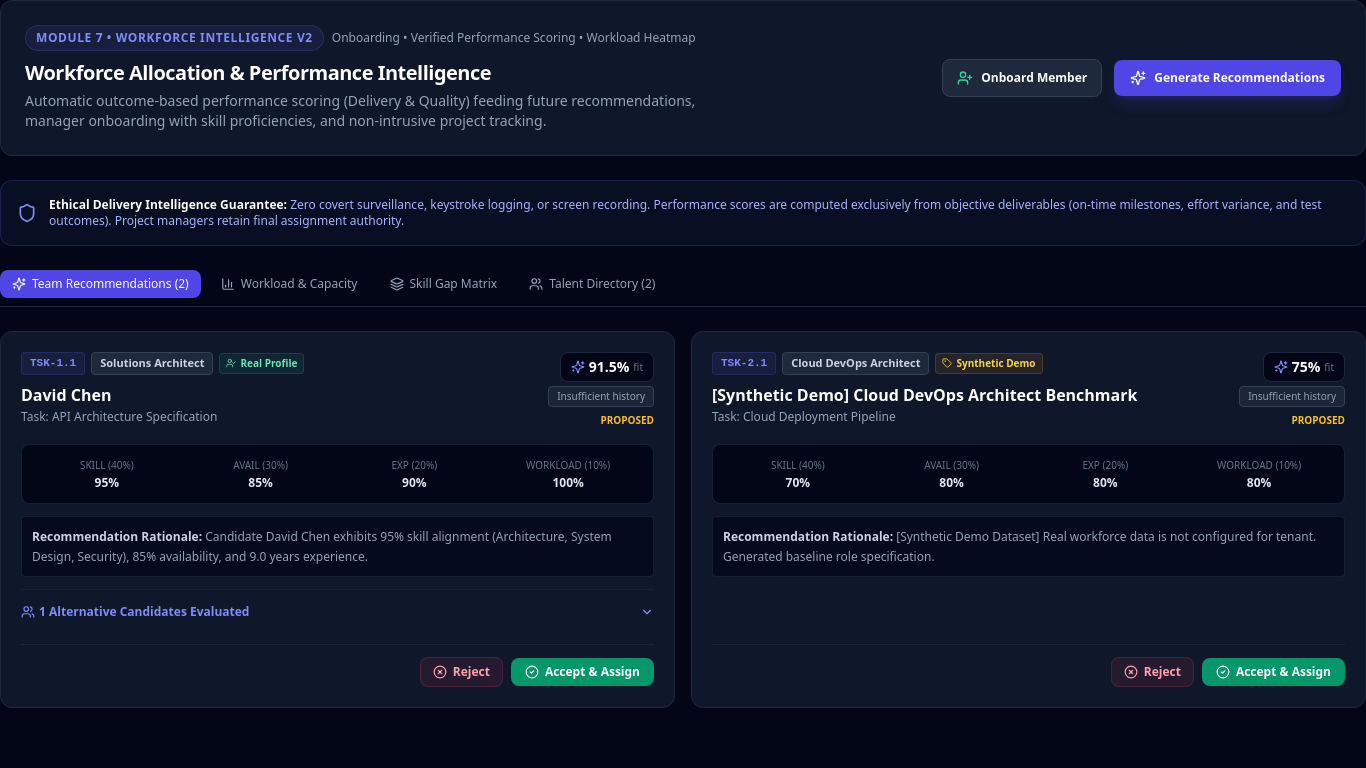
WorkforceView Component › switches to Skill Gap Matrix subtab and displays coverage score and upskilling signals
This screenshot has width=1366, height=768.
Click the button "Skill Gap Matrix".
click(443, 284)  # box x1=378 y1=270 x2=509 y2=298
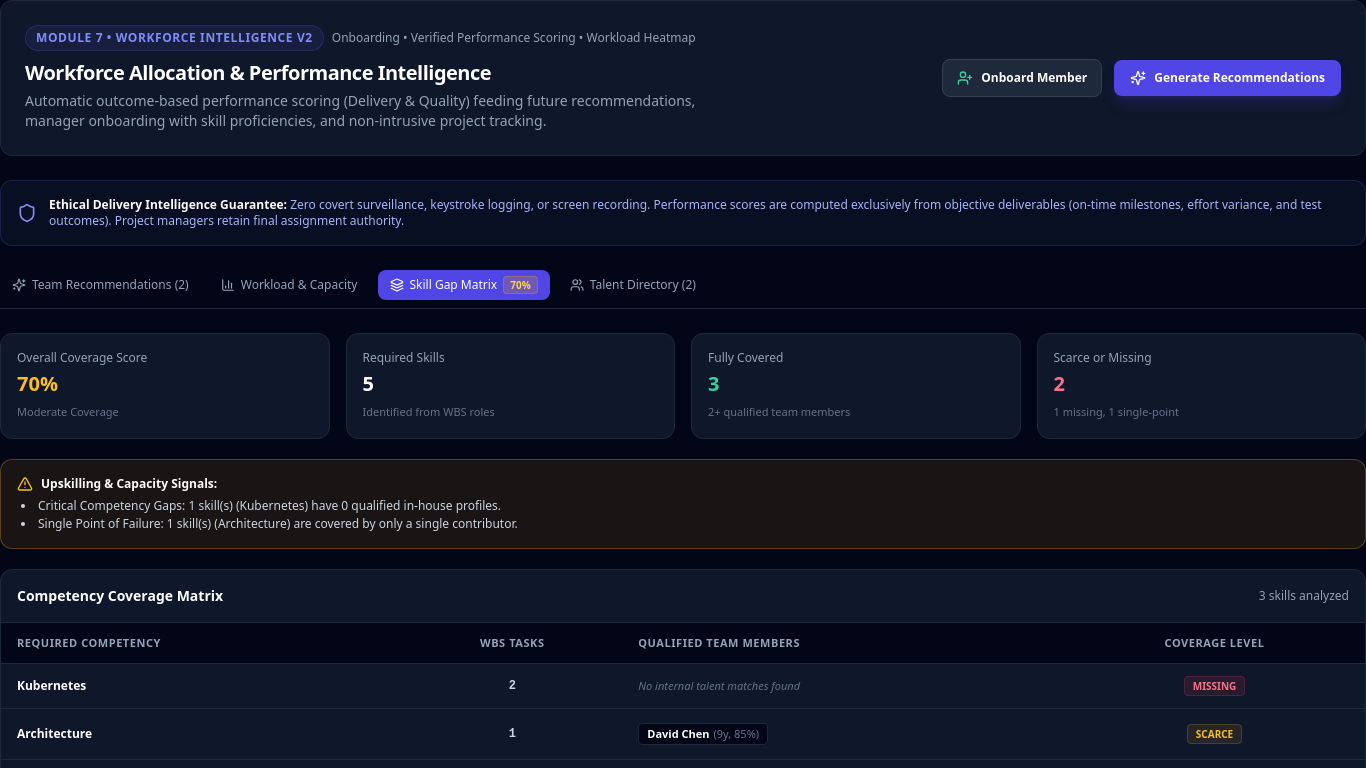
Expected: the text "moderate coverage" is shown, x1=17 y1=404 x2=119 y2=419
Expected: the text "Kubernetes" is shown, x1=1 y1=664 x2=402 y2=708
Expected: the text "missing" is shown, x1=1184 y1=676 x2=1245 y2=696
